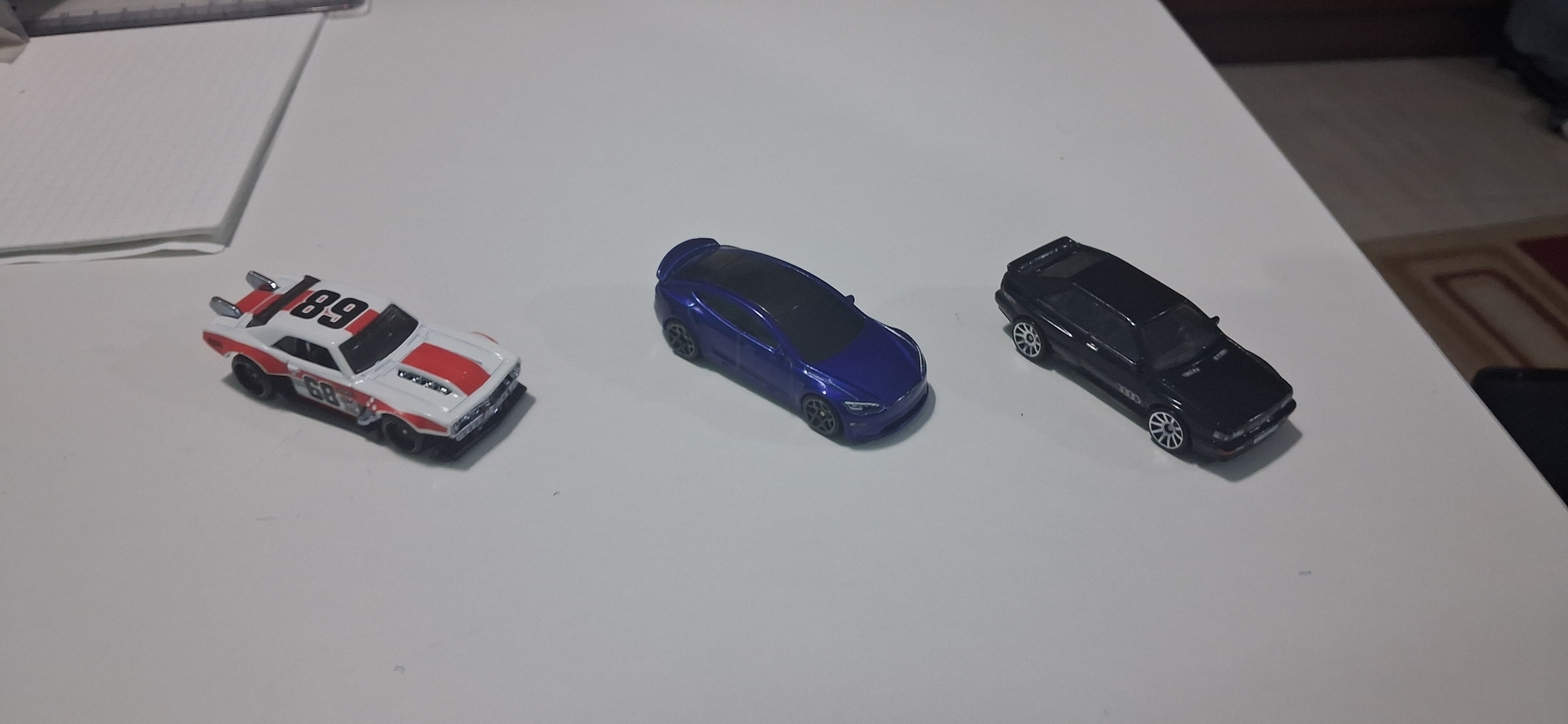Audi_Quattro: (971, 189, 1352, 488)
Camaro: (155, 226, 544, 470)
Tesla_Model_S_Plaid: (615, 213, 946, 461)
